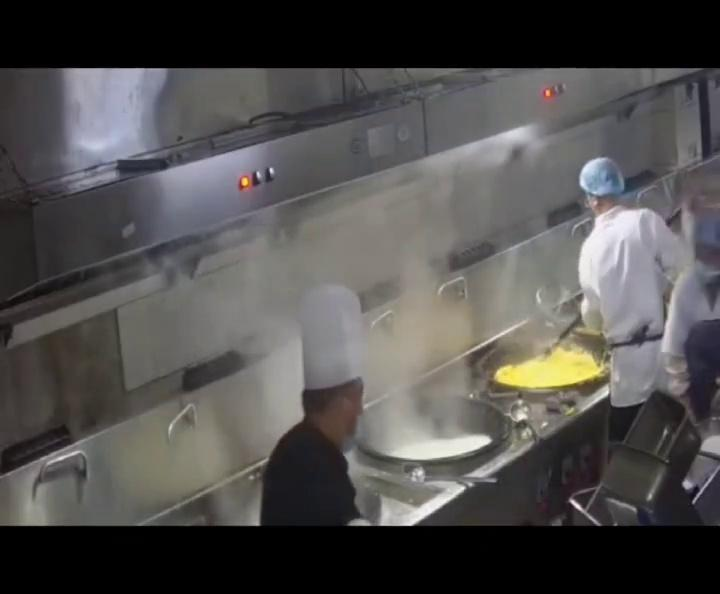gloves: (579, 157, 623, 198), (692, 217, 720, 255)
mask: (692, 259, 720, 287)
